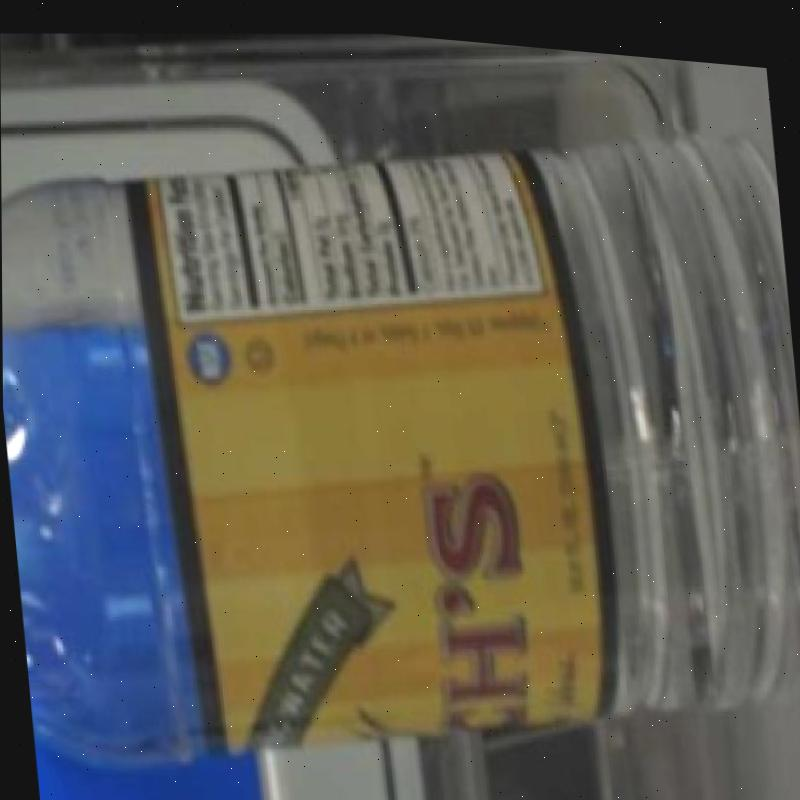botella: (0, 71, 800, 800)
